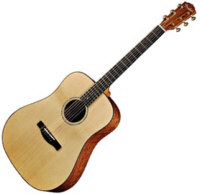guitar: (1, 1, 196, 192)
